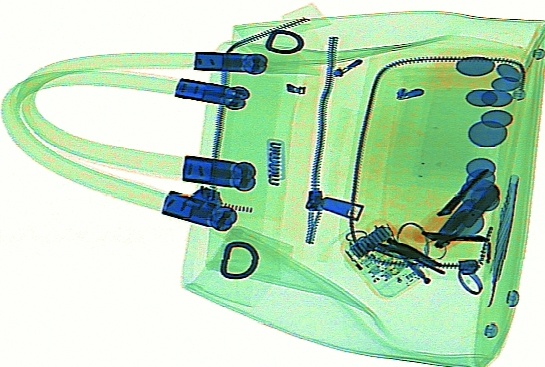knife: (487, 170, 518, 294)
